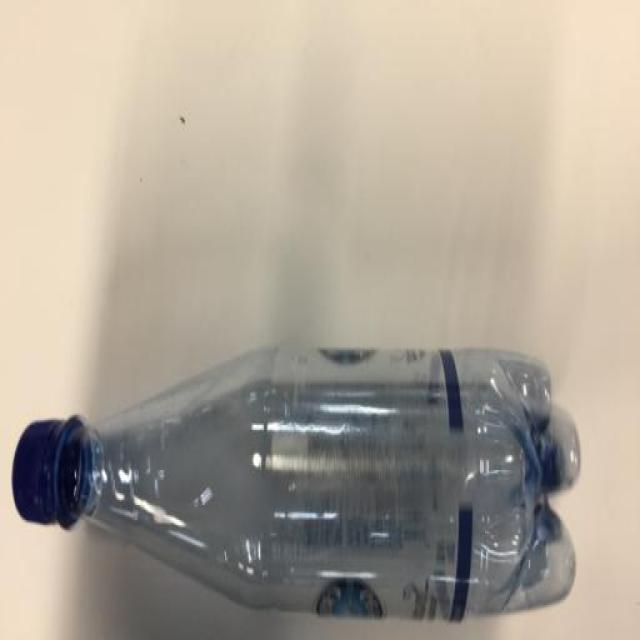Plastic: (11, 345, 582, 627)
